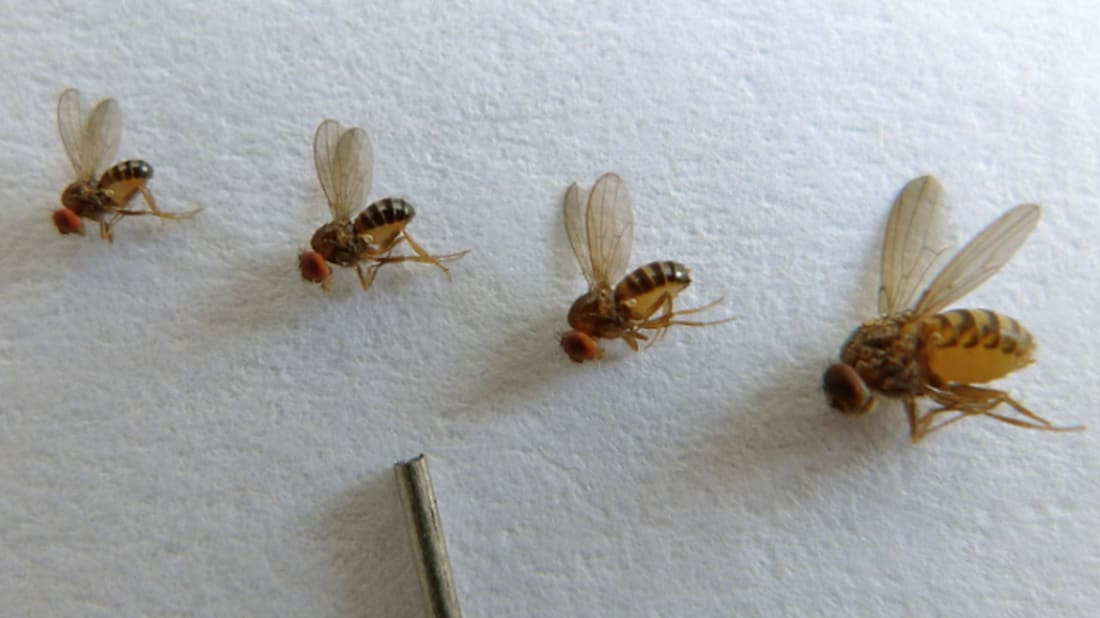Fruit fly: (813, 165, 1084, 512), (516, 176, 711, 411), (283, 115, 434, 322), (22, 85, 149, 270)
